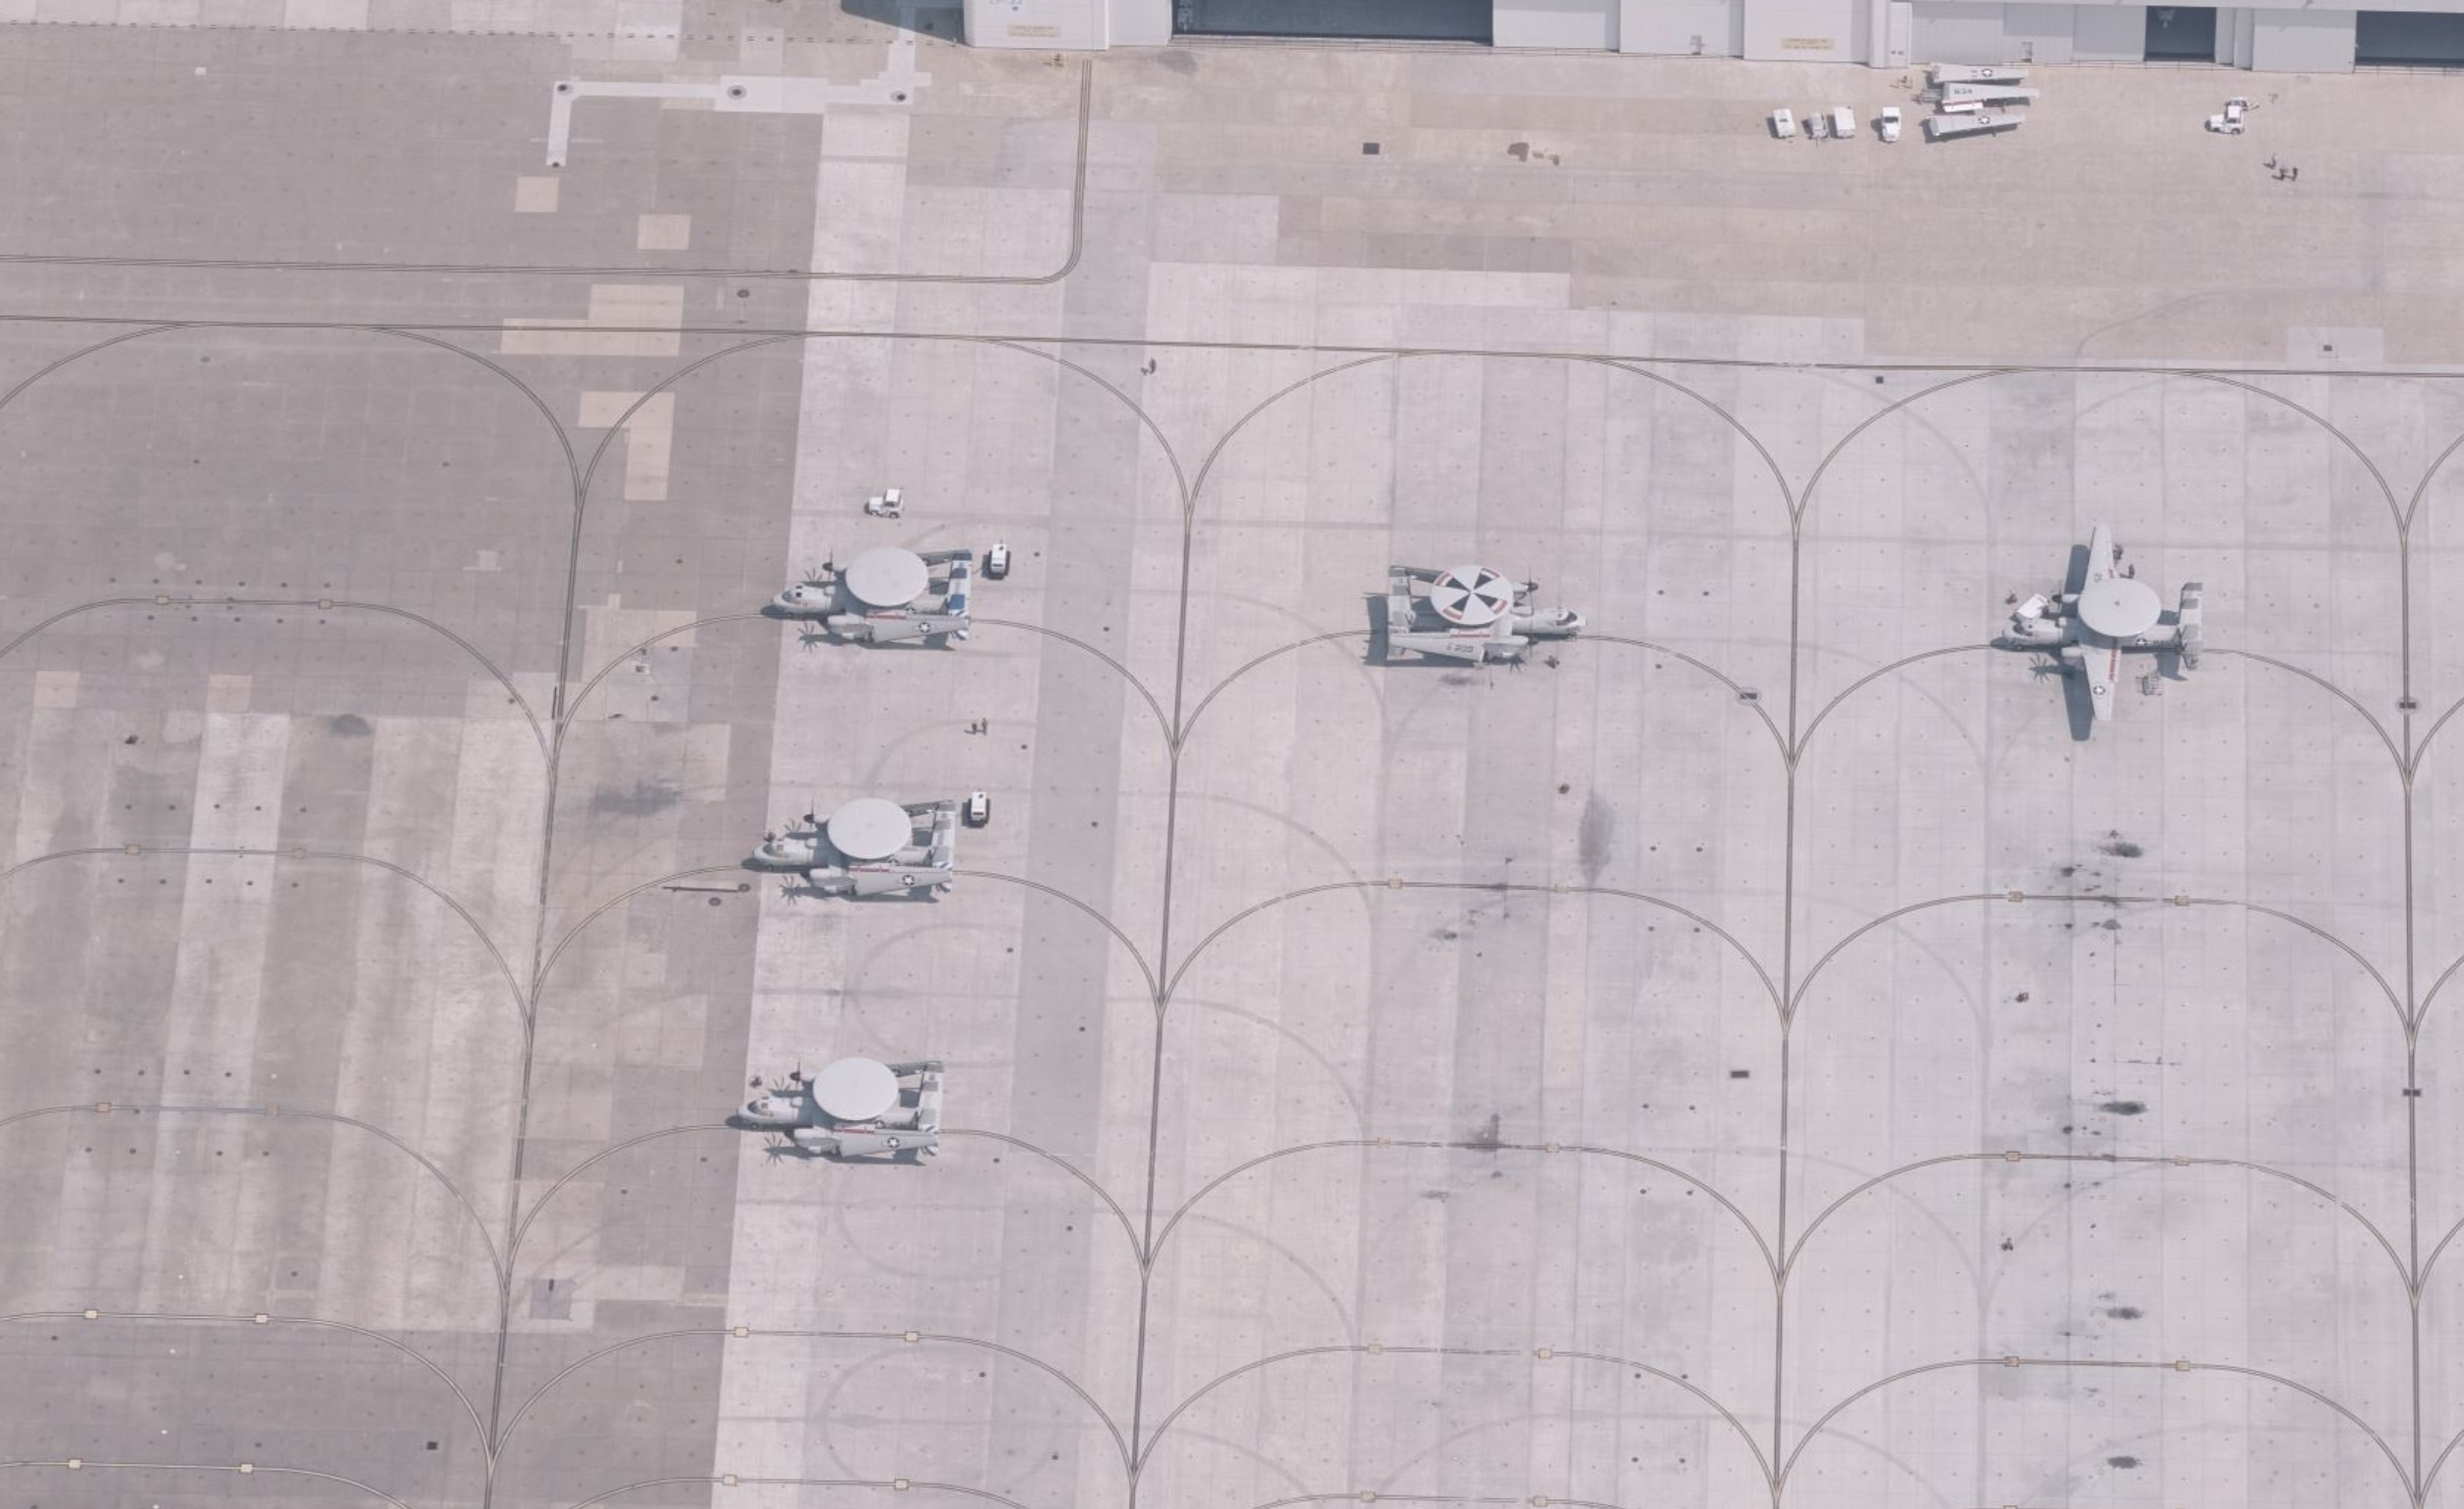E2: (2001, 523, 2204, 722), (736, 1055, 947, 1159), (752, 796, 957, 898), (771, 546, 975, 644), (1387, 563, 1588, 662)
